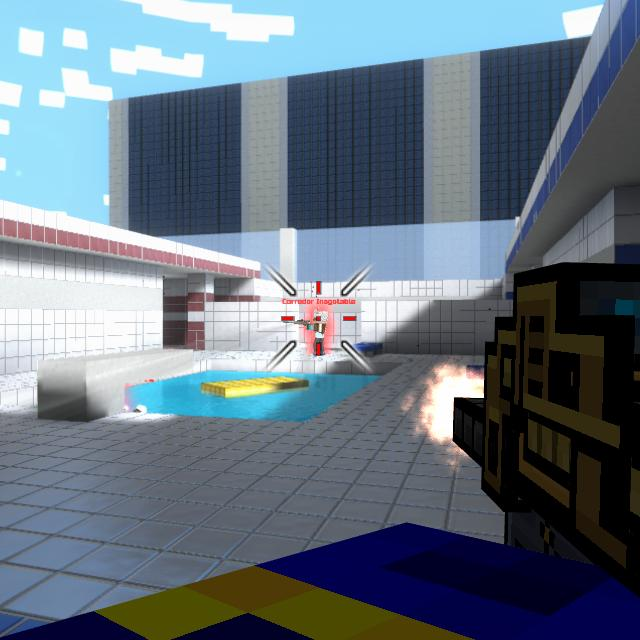Enemy: (306, 309, 328, 356)
